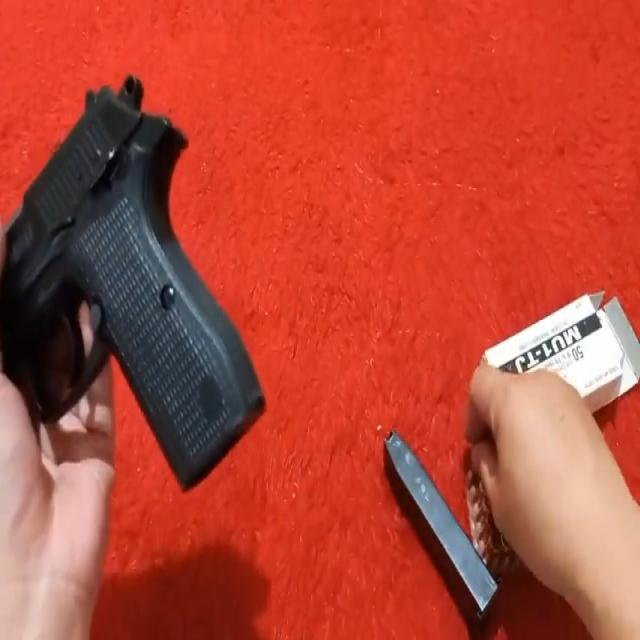handgun: (0, 54, 273, 482)
